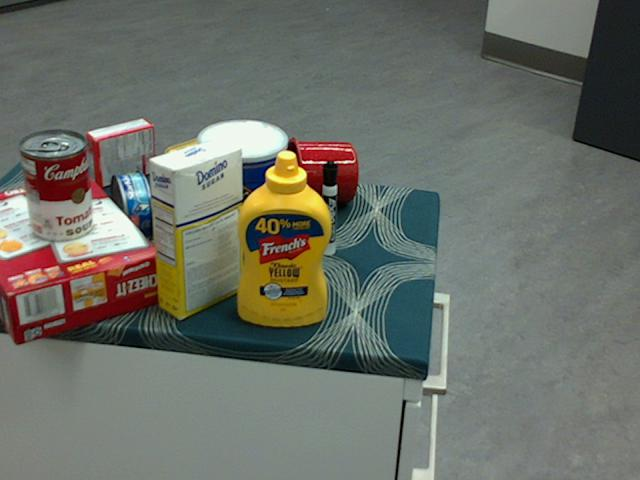cracker_box: (0, 172, 164, 344)
gelatin_box: (85, 118, 154, 188)
large_marker: (321, 160, 337, 255)
master_chef_can: (195, 118, 285, 263)
mug: (281, 136, 356, 207)
mustard_bottle: (237, 149, 332, 326)
potted_meat_can: (162, 130, 242, 220)
sugar_box: (147, 138, 243, 318)
tomato_soup_can: (19, 130, 93, 242)
tuna_fish_can: (108, 172, 151, 245)
